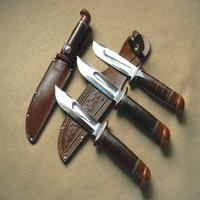knife: (50, 80, 149, 186), (74, 52, 172, 142), (91, 40, 184, 104)
